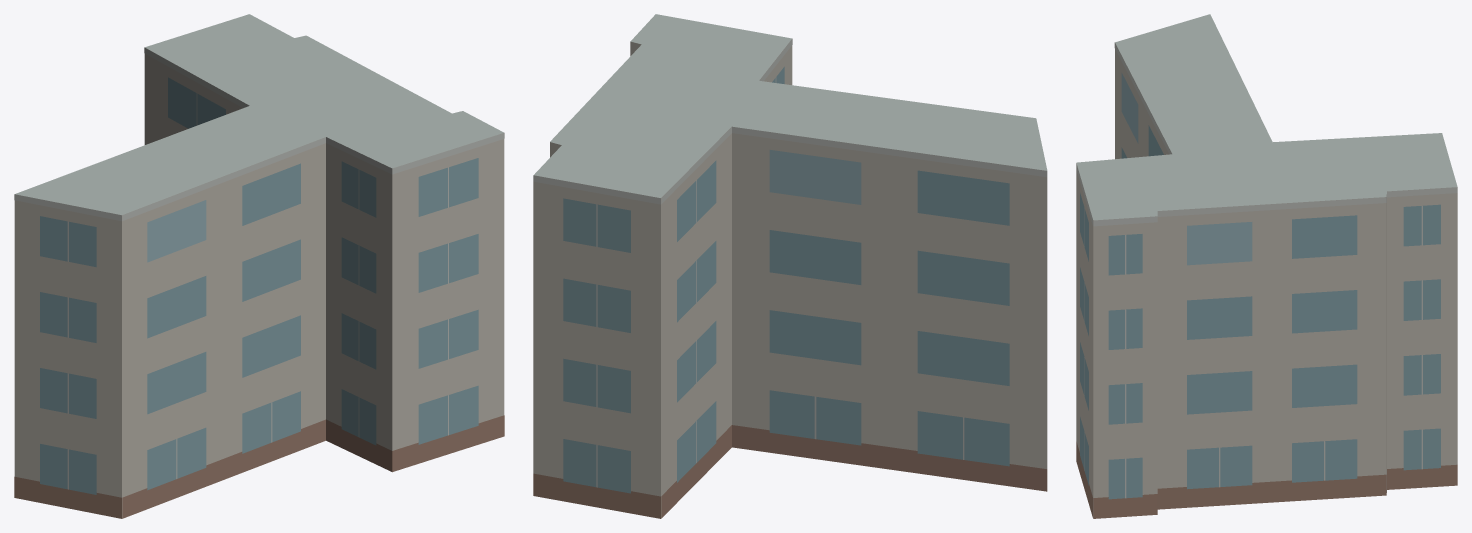
Rendered from survey-upis-32462888.glb.
3 views of the same model, side by side, from view 1: azimuth 30°, elevation 25°; view 2: azimuth 150°, elevation 25°; view 3: azimuth 270°, elevation 25° (orthographic). The views are drawn at different scales.
Visible parts, largest first — view 1: survey-upis-32462888.tmp; view 2: survey-upis-32462888.tmp; view 3: survey-upis-32462888.tmp.
Boxes of the visible parts, <box> form: survey-upis-32462888.tmp: <box>14,14,504,518</box>; survey-upis-32462888.tmp: <box>533,14,1047,518</box>; survey-upis-32462888.tmp: <box>1076,14,1457,518</box>.
Bounding box in the file's own units: 18.11 × 12.2 × 14.14.
